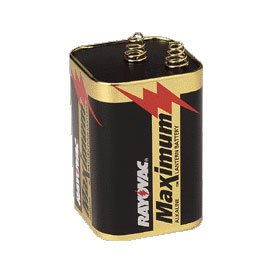6V: (61, 27, 208, 247)
